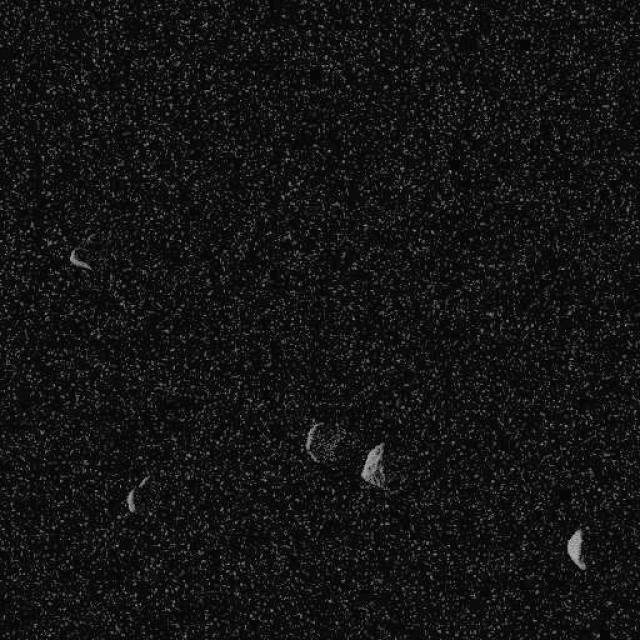D2: (304, 419, 348, 465), (360, 441, 386, 489), (124, 474, 150, 514), (565, 528, 586, 570), (68, 246, 92, 270)
